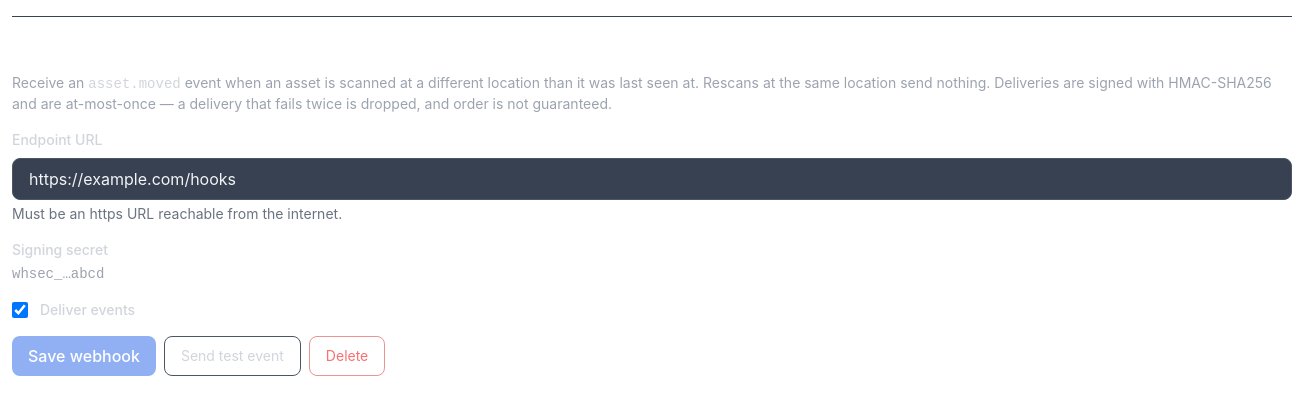
it: WebhooksSection › deletes the webhook and returns to the empty state
The image size is (1304, 393).
What coordinates should you click on to do the following:
click the button "Delete"
I would click on:
 (347, 356)
Its box is [309, 336, 385, 376].
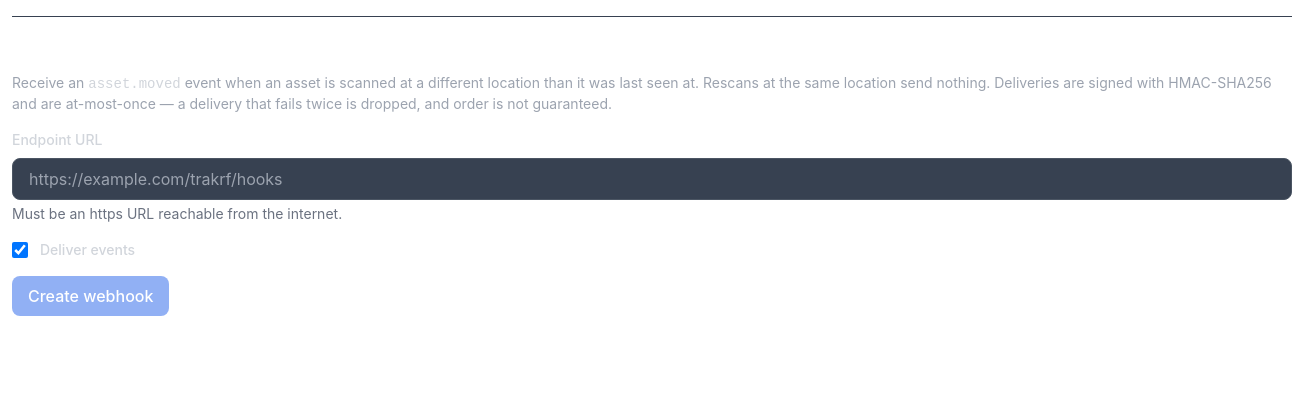
Expected: the button "Create webhook" is shown, [12, 276, 169, 316]
